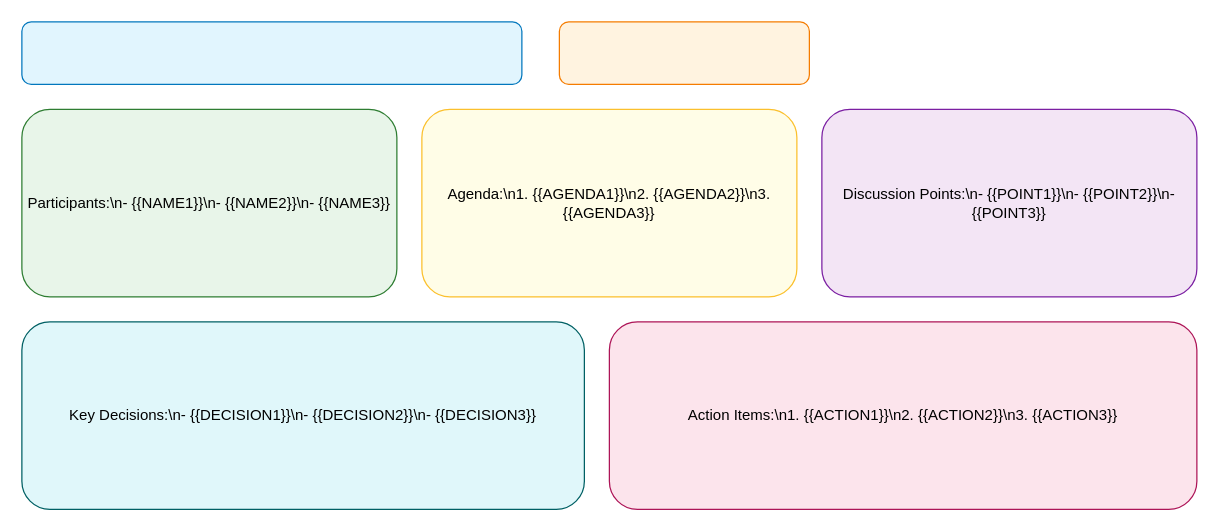
Some shapes in this 1219 by 531 pixel diagram are drawn without their labels. The shapes that lost their labels are listed below. From the top down, each one's centre as x and y in pixels, then its label:
point 271,52: Meeting Title: {{TITLE}}
point 683,52: Date: {{DATE}}
